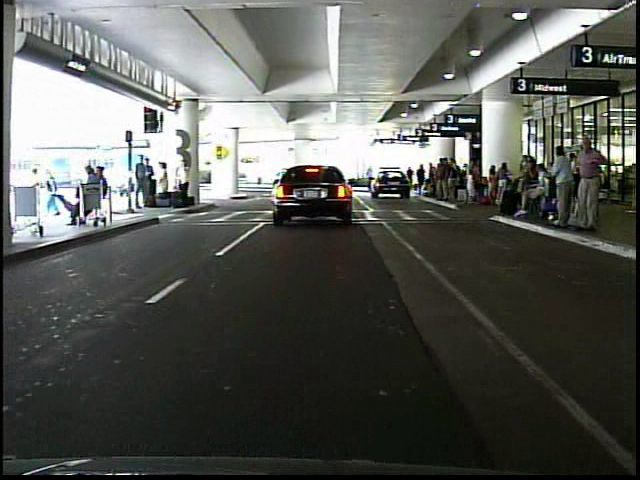person: (569, 134, 609, 237), (547, 143, 576, 230), (129, 152, 150, 210), (33, 162, 53, 220), (177, 157, 192, 205), (159, 159, 174, 205), (416, 160, 428, 197), (406, 160, 416, 193)
